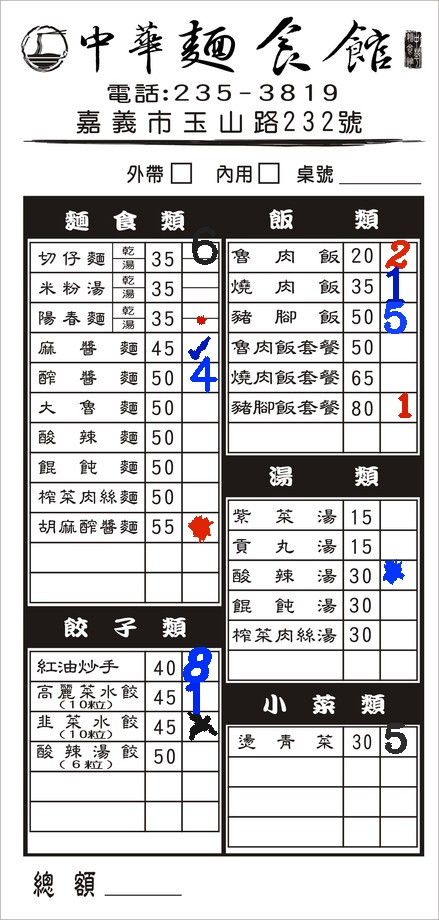marked_circle: (380, 561, 416, 590), (181, 512, 217, 541), (183, 317, 217, 330)
marked_number_1: (381, 393, 417, 422), (181, 681, 217, 710), (378, 271, 414, 300)
marked_number_2: (381, 242, 417, 271)
marked_number_4: (182, 362, 218, 391)
marked_number_5: (380, 726, 416, 755), (380, 302, 416, 331)
marked_number_6: (183, 244, 217, 257)
marked_number_8: (182, 651, 218, 680)
marked_tick: (182, 332, 218, 361)
marked_x: (181, 711, 217, 740)
